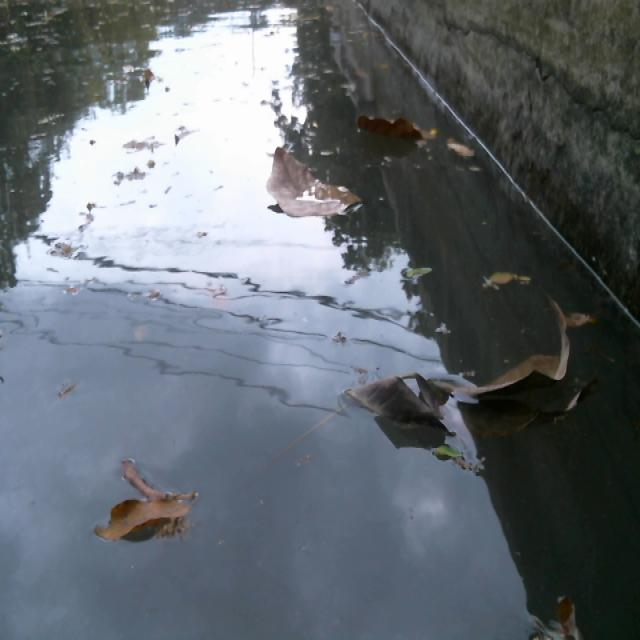Big-leaf: (455, 297, 577, 421), (335, 364, 458, 439), (265, 145, 365, 223), (96, 495, 194, 551), (354, 109, 438, 151)
Small-leaf: (530, 588, 585, 640), (484, 264, 531, 297), (401, 261, 435, 290), (450, 136, 478, 168), (205, 278, 233, 309), (140, 66, 165, 94), (132, 322, 155, 351)
